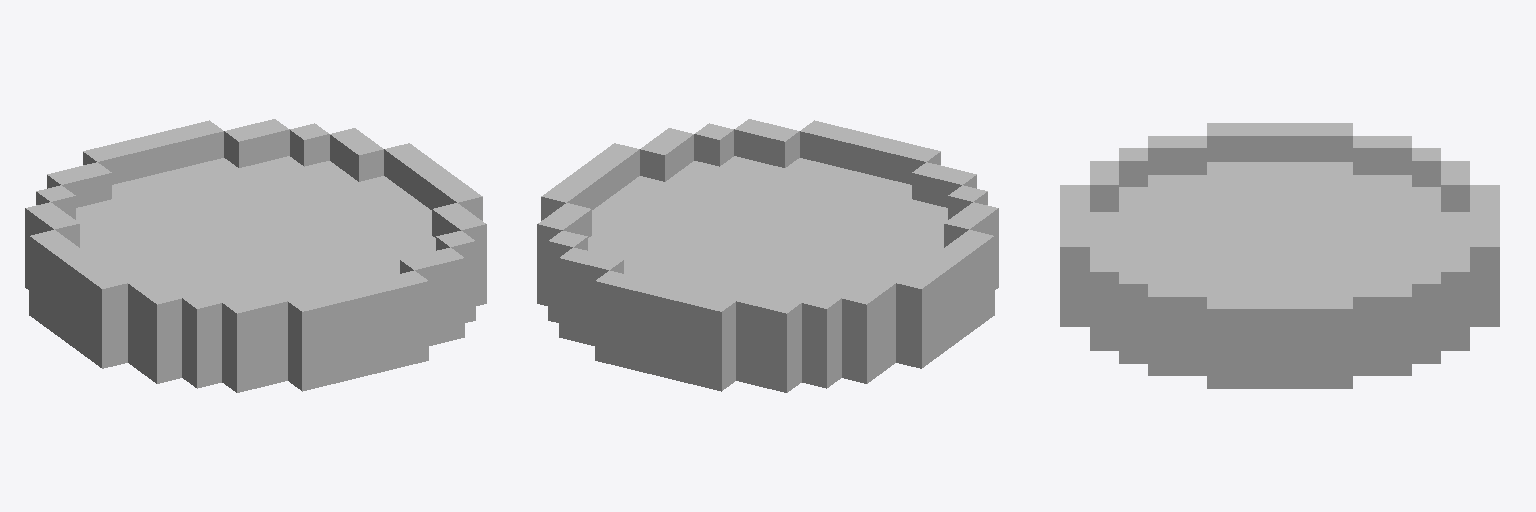
The model's file is Coin.obj.
3 views of the same model, side by side, from view 1: azimuth 30°, elevation 25°; view 2: azimuth 150°, elevation 25°; view 3: azimuth 270°, elevation 25° (orthographic).
Size of the model in its own units: 15 by 3 by 15.